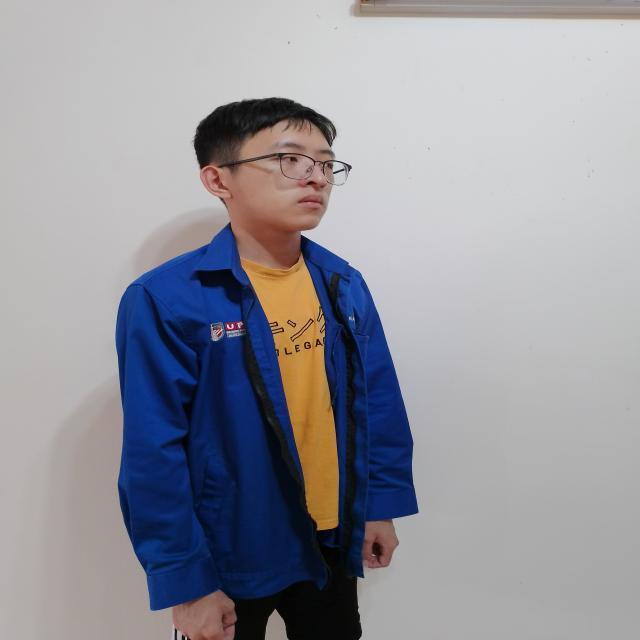person_with_labcoat: (116, 98, 417, 640)
